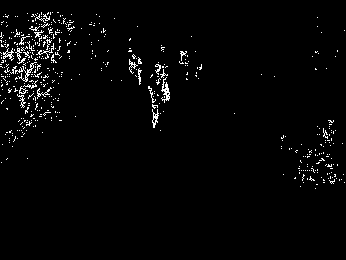person: (148, 63, 172, 130)
